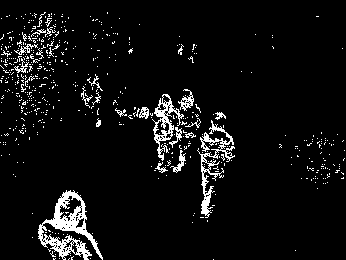person: (204, 112, 248, 217), (147, 89, 174, 174), (178, 88, 202, 178), (77, 71, 104, 131)
